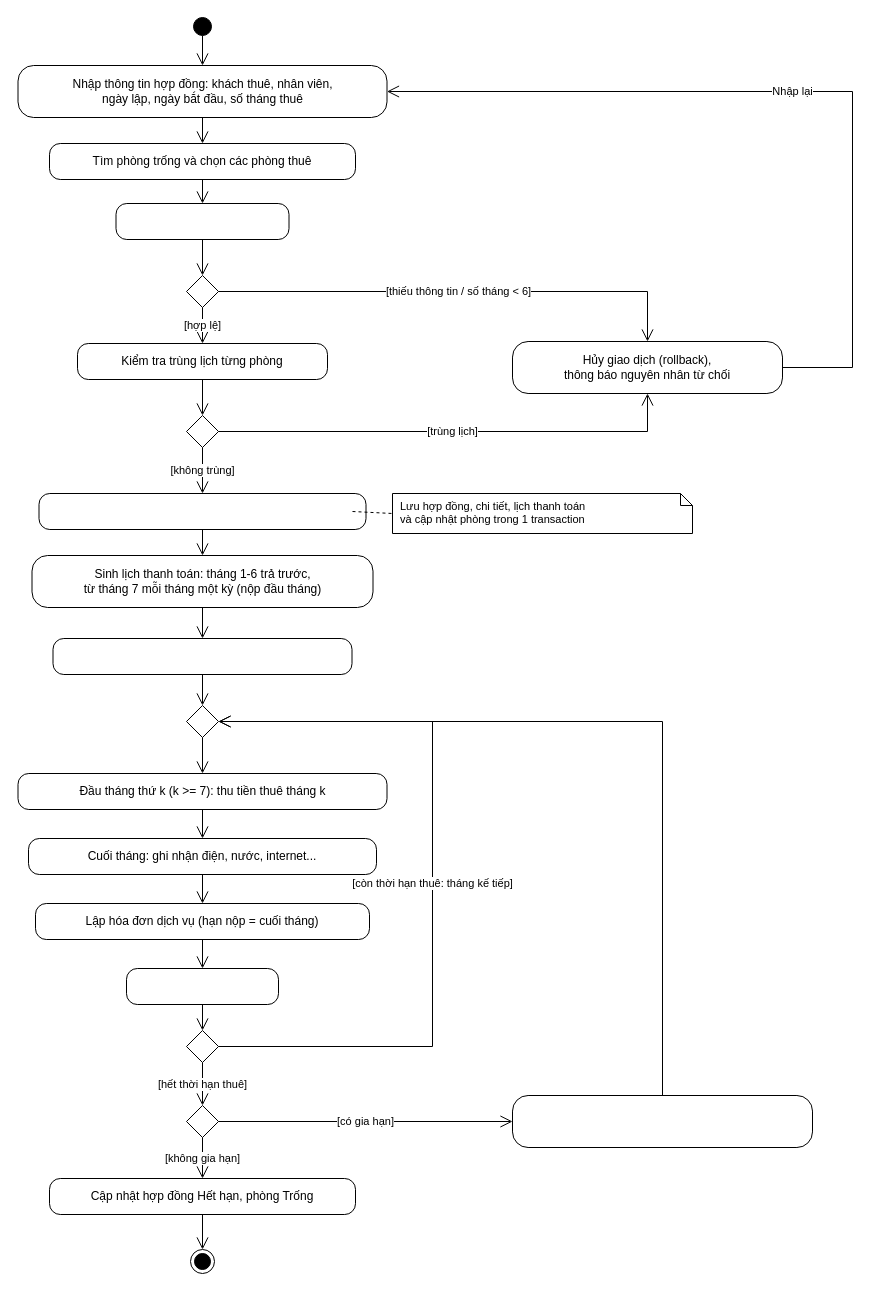
Image size: 882x1291. Some labels were removed from this diagram. Each missing label, with the centre of its shape:
Lưu hợp đồng và chi tiết phòng (giá chốt): the point at 202,511
Lập phiếu gia hạn (không còn nợ, <= 1/2 thời gian thuê): the point at 662,1121
Nhấn "Lập hợp đồng": the point at 202,221
Thu tiền dịch vụ: the point at 202,986
Thu tiền thuê 6 tháng đầu (trả trước): the point at 202,656
